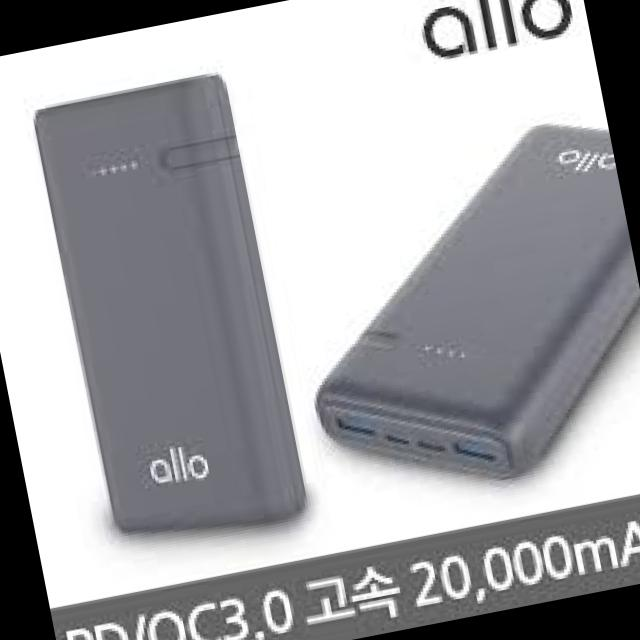power_bank: (266, 105, 640, 514), (26, 67, 315, 560)
